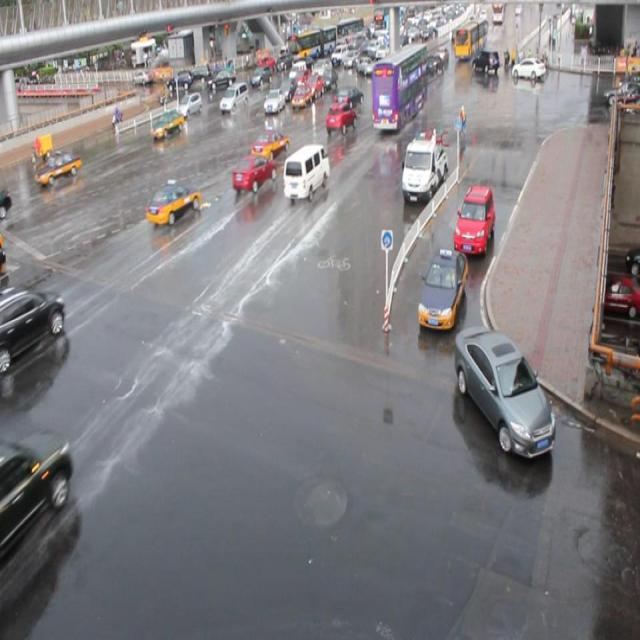bus: (401, 132, 446, 202)
car: (453, 322, 555, 457), (0, 432, 70, 559), (0, 277, 64, 364), (417, 245, 468, 331), (452, 183, 494, 254), (145, 180, 200, 227), (231, 152, 276, 193), (36, 150, 81, 185), (249, 126, 289, 161), (324, 101, 356, 135), (151, 110, 184, 139), (219, 83, 248, 113), (332, 85, 363, 112), (176, 92, 202, 118), (264, 89, 286, 114), (292, 84, 312, 108), (279, 77, 297, 100), (306, 73, 324, 96), (293, 69, 310, 90)
truck: (282, 144, 329, 201)
van: (371, 42, 426, 132)
